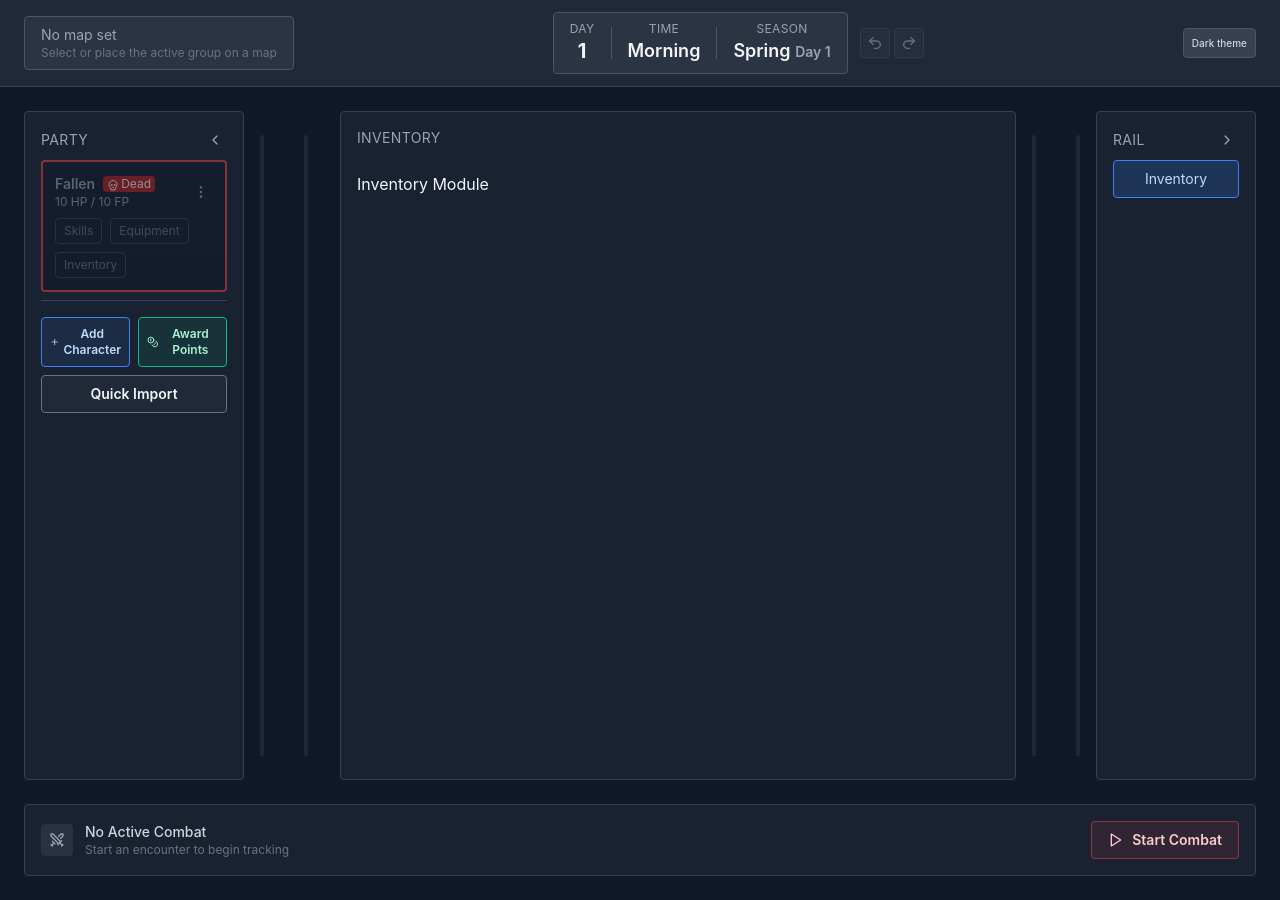
UnifiedShell party sidebar downtime badges › marks incapacitated characters unavailable while keeping Character options available
Expected: the element with test id "dead-status-badge" is shown, 103,176 -> 155,192
Click the button with test id "character-menu-fallen".
click(201, 192)  # box 189,180 -> 213,204
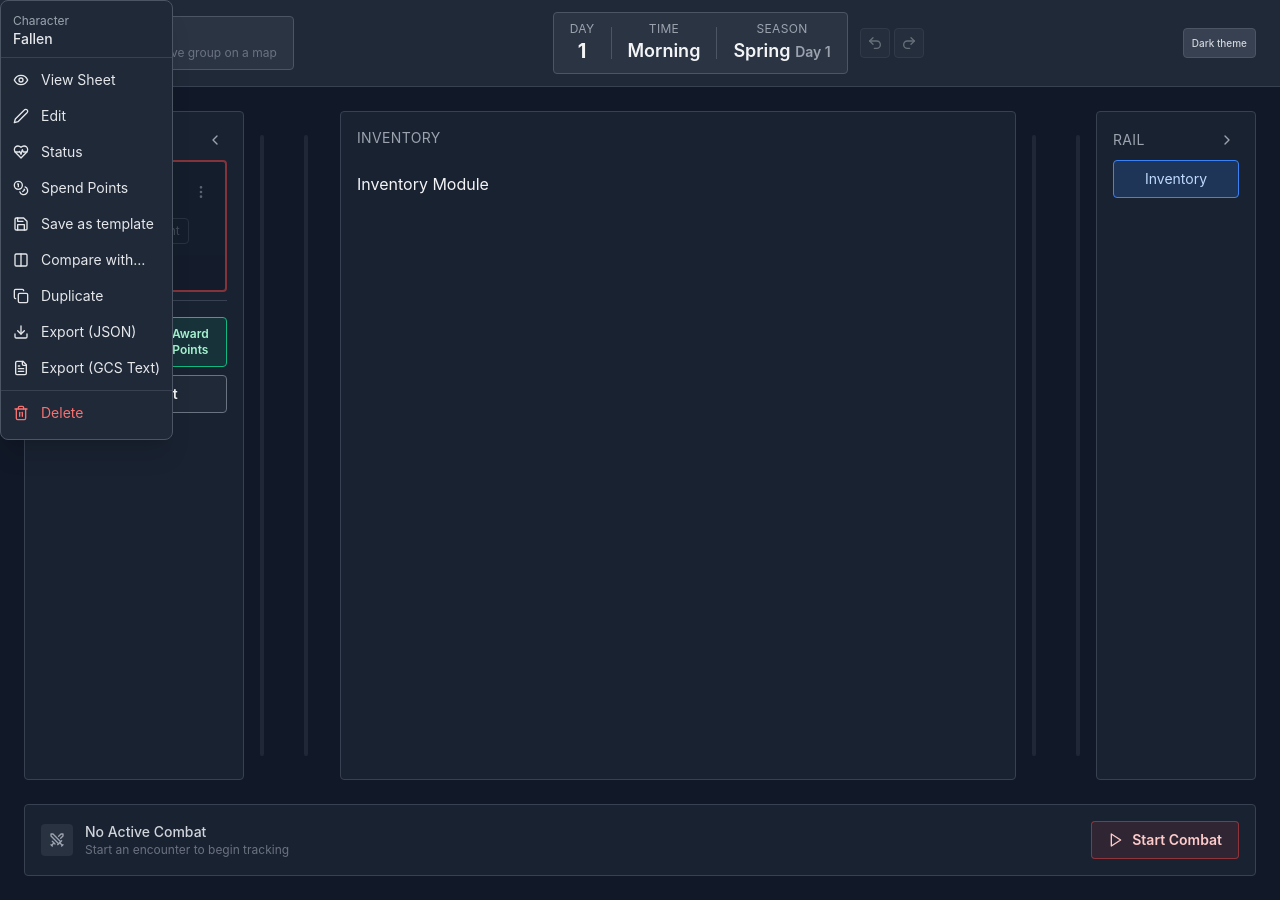
Click the button "Status".
click(87, 152)  # box 1,134 -> 172,170
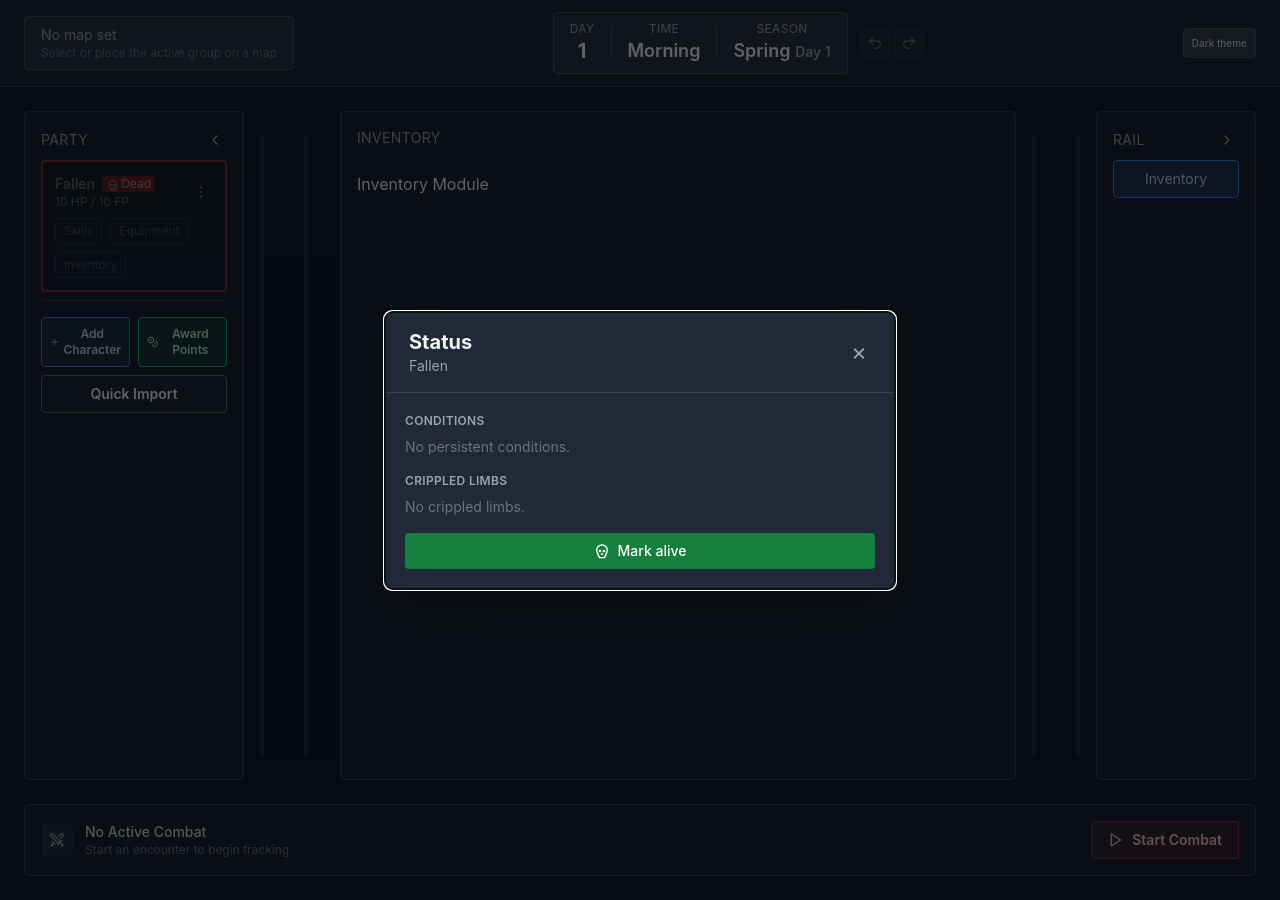
Result: the element with test id "character-status-editor" is shown at 405,412 -> 875,568
